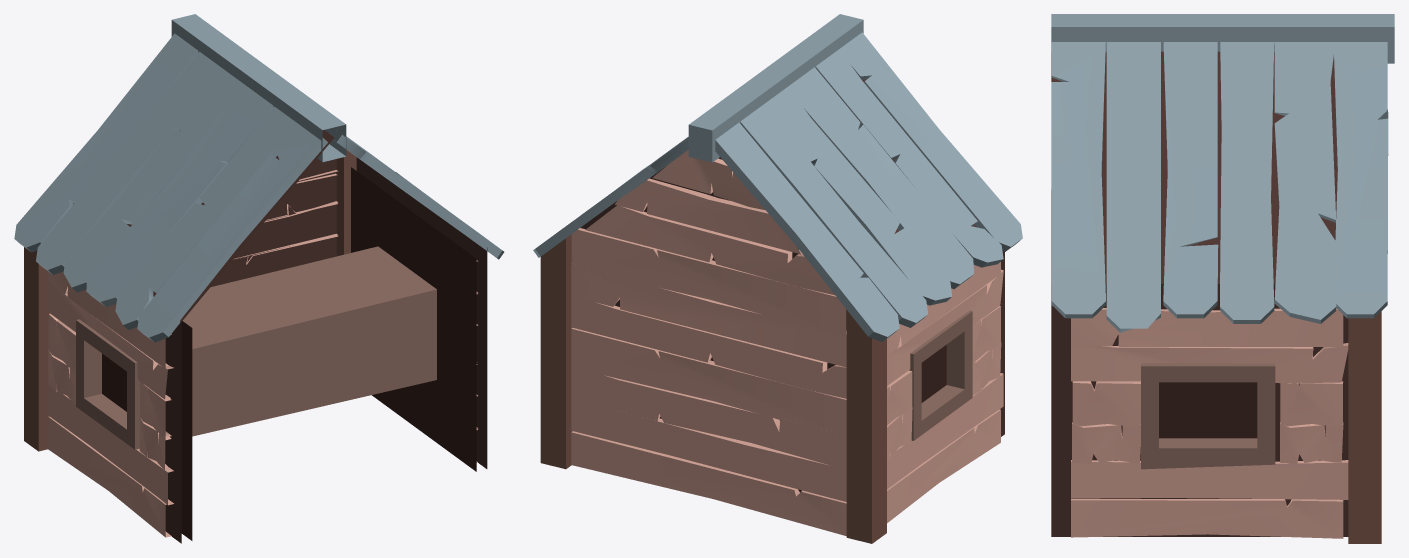
Rendered from Building_003.glb.
The picture shows the model from 3 angles, left to right: view 1: azimuth 30°, elevation 25°; view 2: azimuth 150°, elevation 25°; view 3: azimuth 270°, elevation 25°; orthographic projection. The views are drawn at different scales.
Parts seen in each view (by area): view 1: Building_003; view 2: Building_003; view 3: Building_003.
Part boxes in pixels (x1,y1,x2,y2): Building_003: [14, 14, 504, 543]; Building_003: [533, 14, 1022, 543]; Building_003: [1051, 14, 1394, 543].
Bounding box in the file's own units: 7.89 × 7.8 × 5.63.
Materials: 1 (1 with a texture image).
